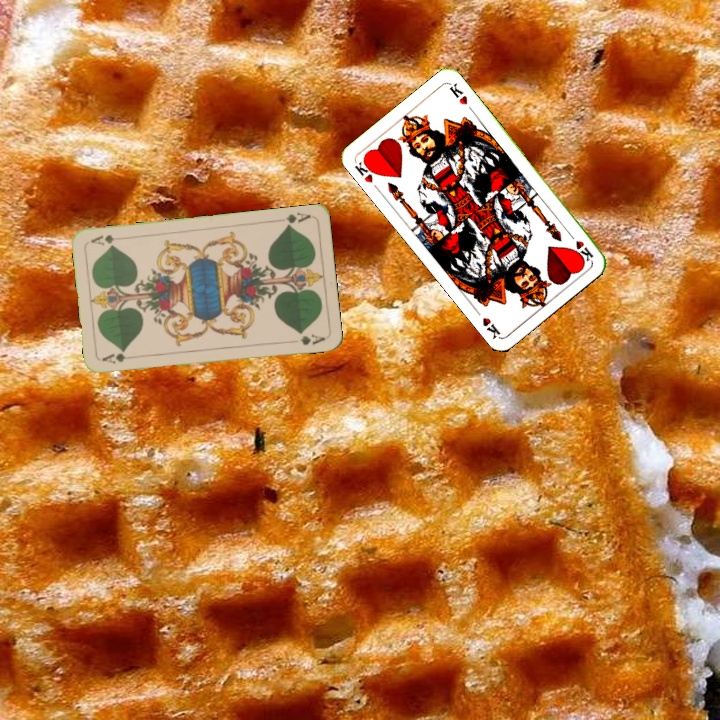GA: (98, 349, 139, 366), (282, 209, 313, 230)
HK: (564, 228, 596, 264), (350, 154, 379, 186)
